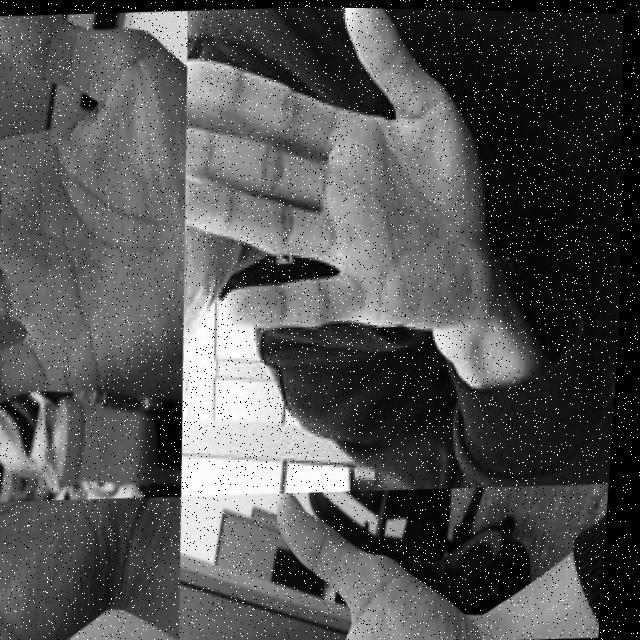no-gloves: (169, 3, 519, 346), (0, 6, 208, 412), (178, 478, 526, 640), (0, 493, 176, 640)
